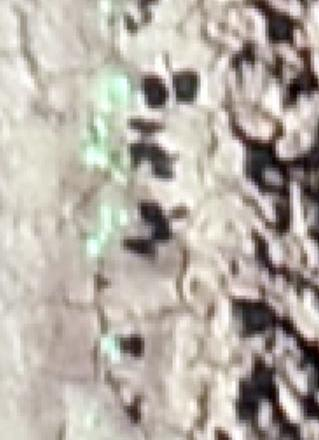cotton: (104, 70, 136, 107), (85, 135, 115, 165), (104, 207, 137, 229), (108, 151, 128, 176), (102, 335, 123, 356), (88, 239, 108, 256)
